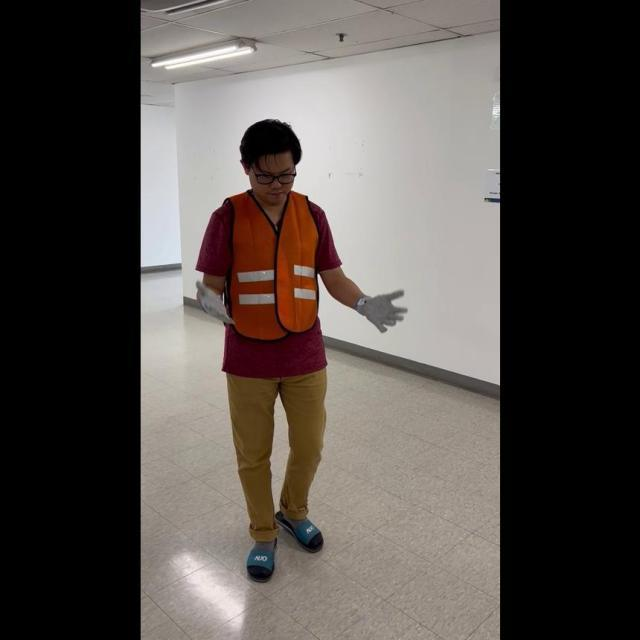gloved_hand: (353, 284, 406, 333), (193, 273, 232, 326)
